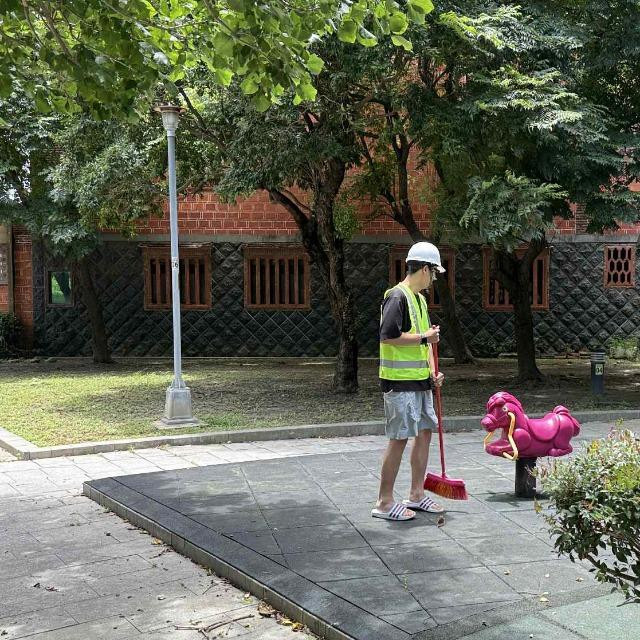Helmet: (401, 239, 450, 291)
